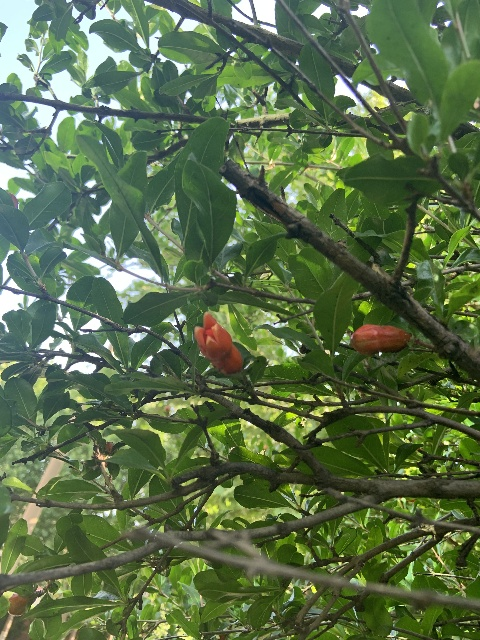bud: (352, 323, 410, 354)
flower: (193, 311, 242, 375)
